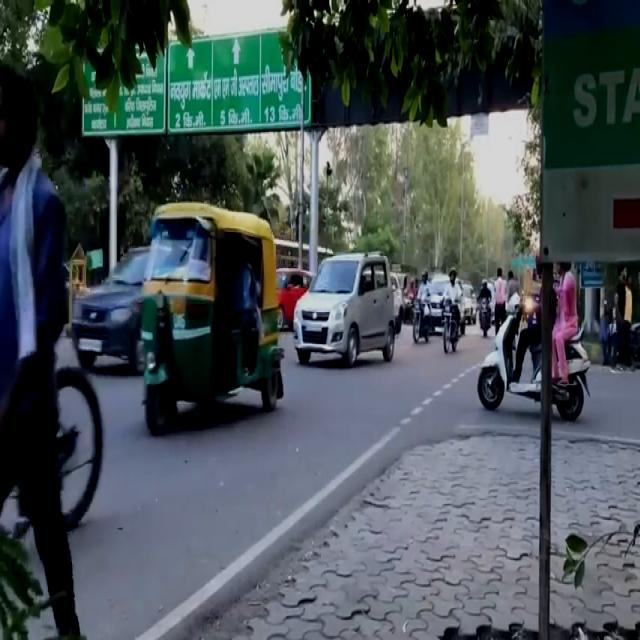MOTORCYCLE: (473, 298, 588, 424), (412, 298, 433, 343), (442, 294, 458, 352), (479, 291, 489, 343)
SED: (292, 248, 398, 365)
